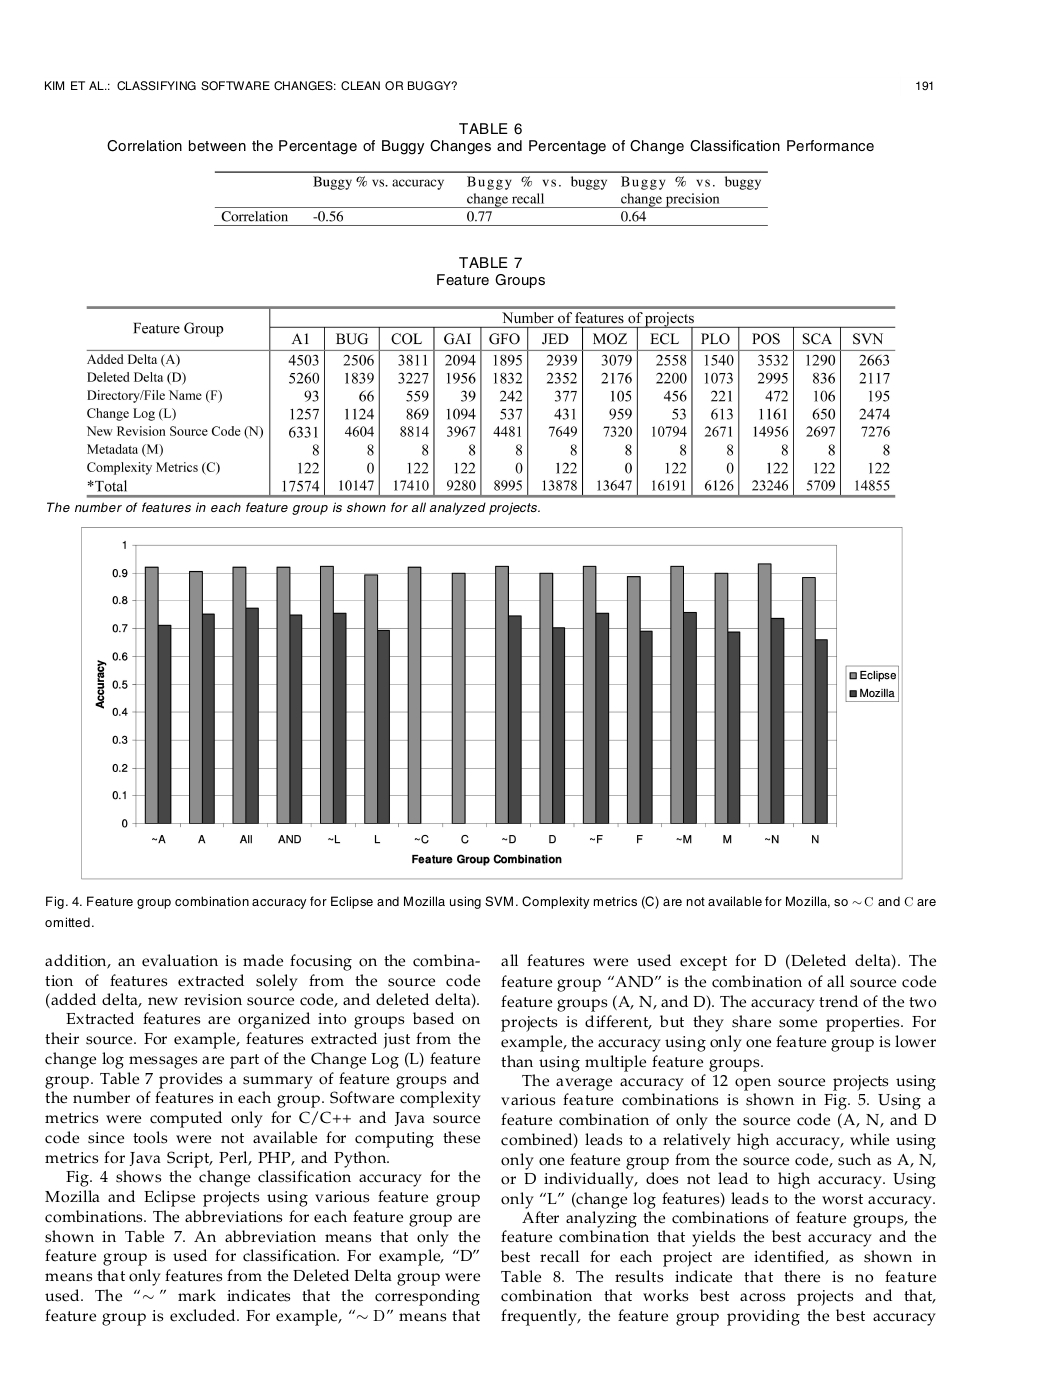Table: (86, 305, 895, 498), (214, 171, 767, 225)
figure: (81, 527, 902, 879)
